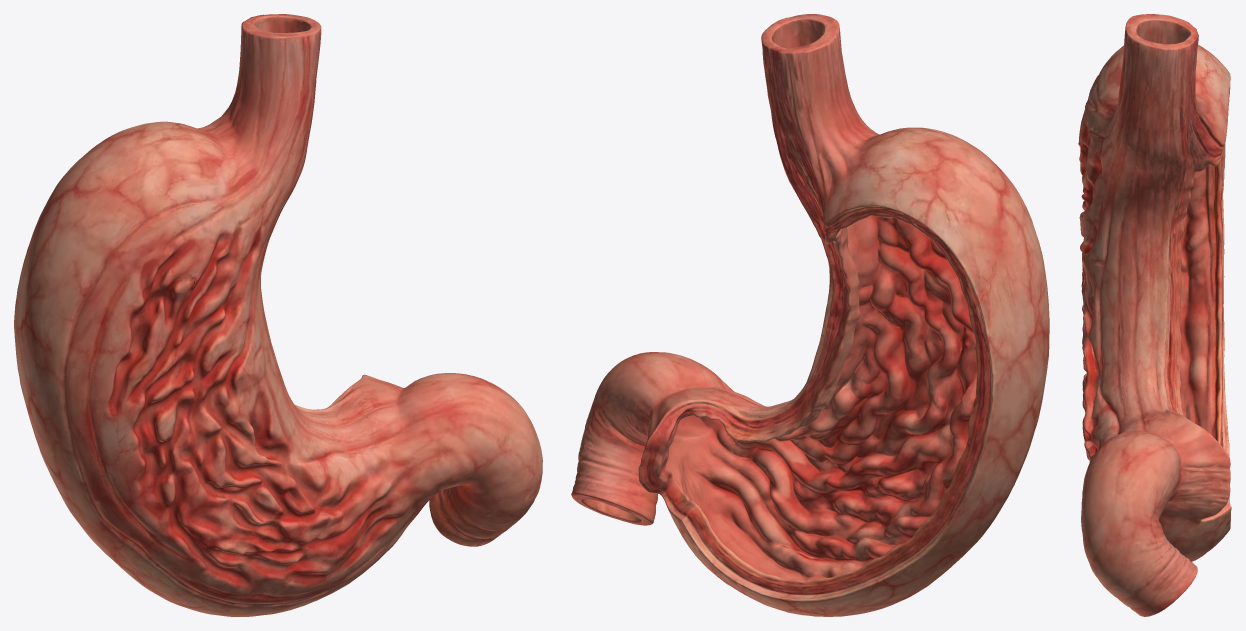
Rendered from g3d-human-stomach.glb.
The picture shows the model from 3 angles, left to right: view 1: azimuth 30°, elevation 25°; view 2: azimuth 150°, elevation 25°; view 3: azimuth 270°, elevation 25°; orthographic projection. The views are drawn at different scales.
Parts seen in each view (by area): view 1: human-stomach; view 2: human-stomach; view 3: human-stomach.
Boxes of the visible parts, x1=… form: human-stomach: x1=14, y1=14, x2=542, y2=616; human-stomach: x1=571, y1=14, x2=1049, y2=616; human-stomach: x1=1078, y1=14, x2=1231, y2=616.
Bounding box in the file's own units: 0.2407 × 0.28 × 0.0735.
1 material, 1 textured.
